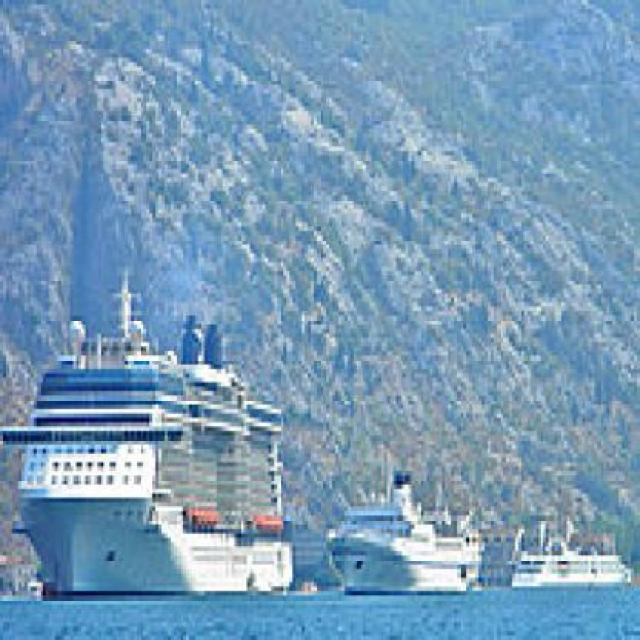cruise: (1, 260, 315, 637), (321, 458, 495, 606), (504, 513, 635, 614)
